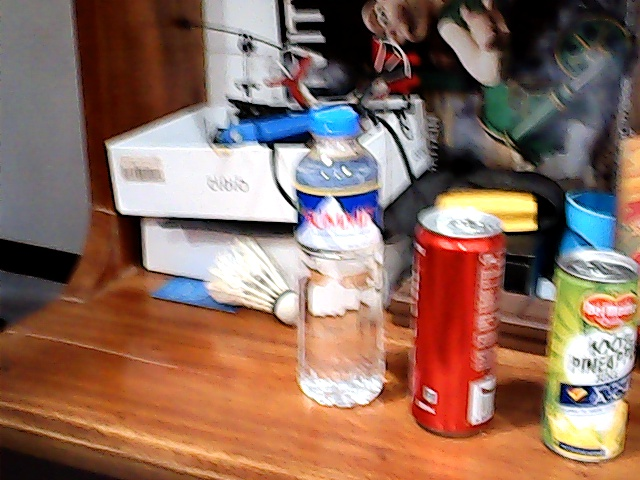Cola: (414, 210, 506, 441)
Pine Juice: (546, 250, 635, 468)
Summit Water: (294, 110, 385, 398)
